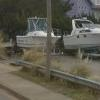Boat: (10, 13, 100, 65)
